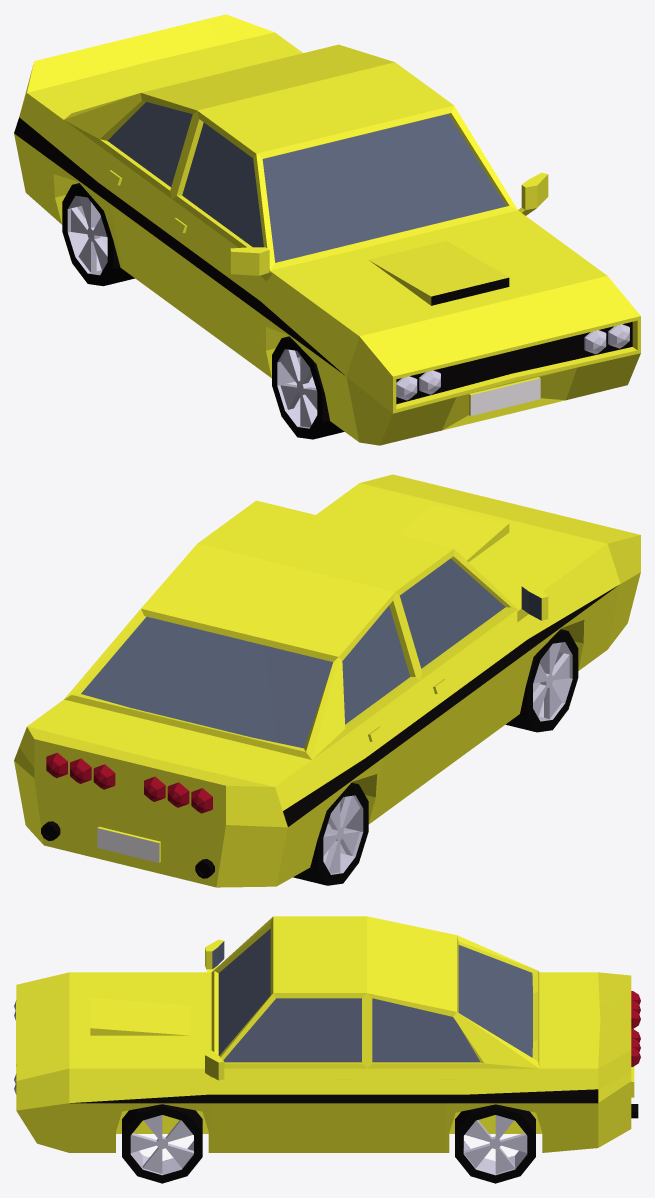
File: mod-muscle.gltf
3 views of the same model, one above another, from view 1: azimuth 30°, elevation 25°; view 2: azimuth 150°, elevation 25°; view 3: azimuth 270°, elevation 25° (orthographic). The views are drawn at different scales.
Visible parts, largest first — view 1: Muscle, Muscle wheel front left; view 2: Muscle, Muscle wheel front left; view 3: Muscle, Muscle wheel front left.
Boxes of the visible parts, box(x1,y1,x2,y2) form: Muscle: box(14, 14, 640, 445); Muscle wheel front left: box(67, 195, 317, 428); Muscle: box(14, 474, 640, 887); Muscle wheel front left: box(323, 642, 572, 874); Muscle: box(14, 916, 640, 1183); Muscle wheel front left: box(130, 1115, 527, 1175).
Bounding box in the file's own units: 2.48 × 1.68 × 5.33.
